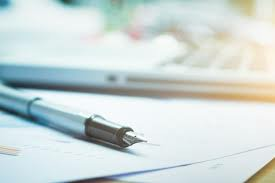pen: (1, 85, 161, 153)
